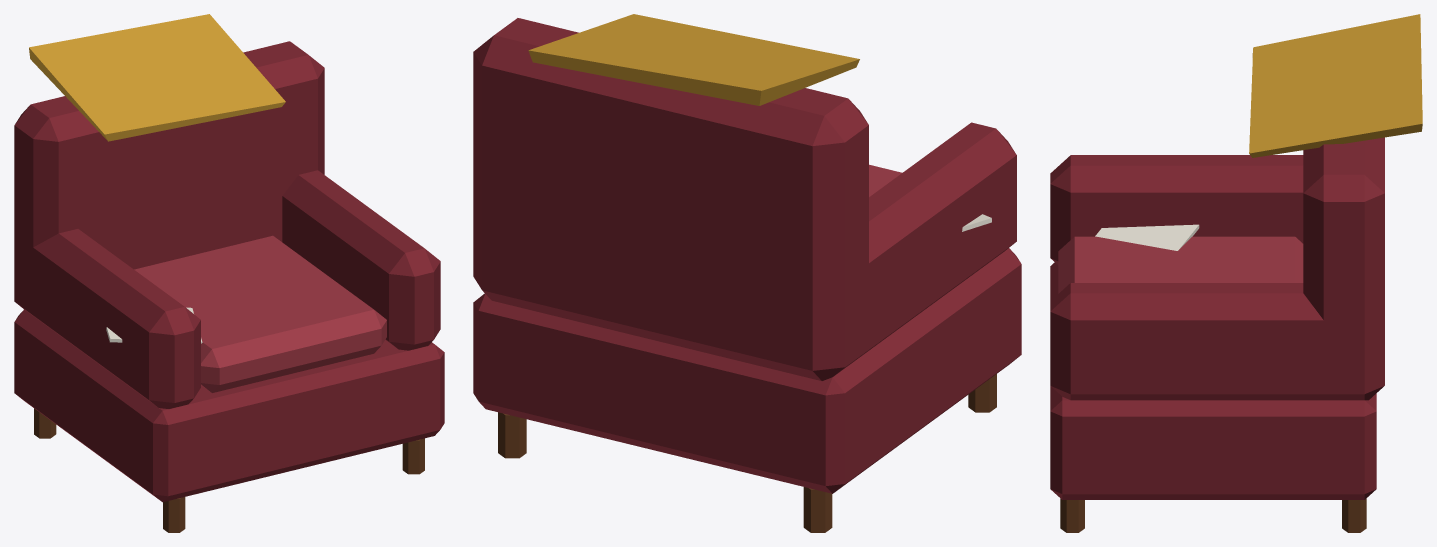
The model's file is armchair.fbx.
3 renders of one model, left to right at view 1: azimuth 30°, elevation 25°; view 2: azimuth 150°, elevation 25°; view 3: azimuth 270°, elevation 25°, orthographic. The views are drawn at different scales.
Visible parts, largest first — view 1: armchair; view 2: armchair; view 3: armchair.
Boxes of the visible parts, box(x1,y1,x2,y2) form: armchair: box(14, 14, 444, 532); armchair: box(473, 14, 1021, 532); armchair: box(1050, 14, 1422, 532).
Size of the model in its own units: 3.72 by 4.26 by 3.65.
